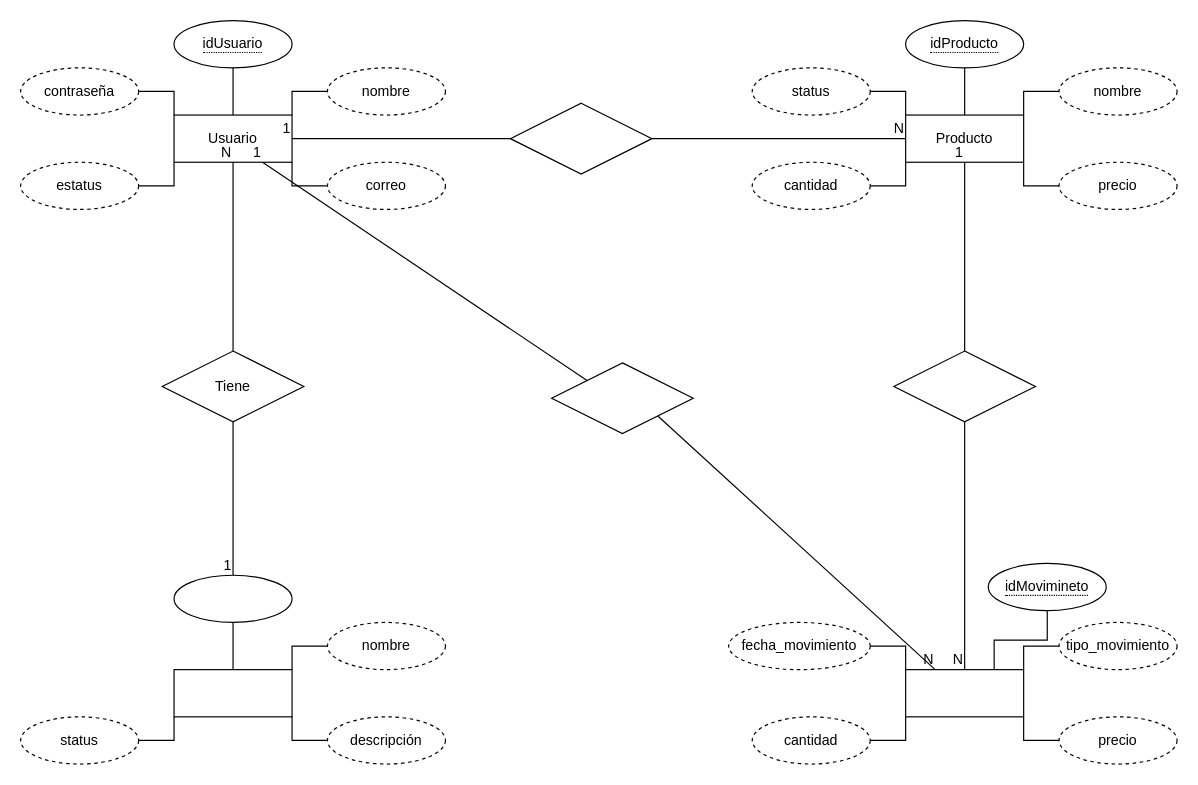
The diagram is 1198 pixels wide and 785 high, and some of its shapes have lost their labels. The centre of each missing label's shape, as x and y in pixels:
Crea: the point at 580,138
Esta: the point at 964,386
idRol: the point at 232,598
Movimiento: the point at 964,692
Realiza: the point at 621,398
Rol: the point at 232,692
